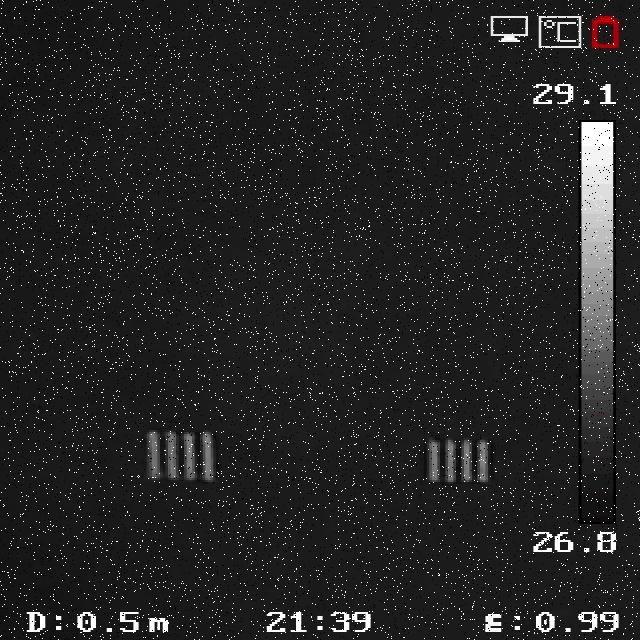Distinguishable 4-bar target: (144, 427, 221, 485), (423, 433, 492, 486)
